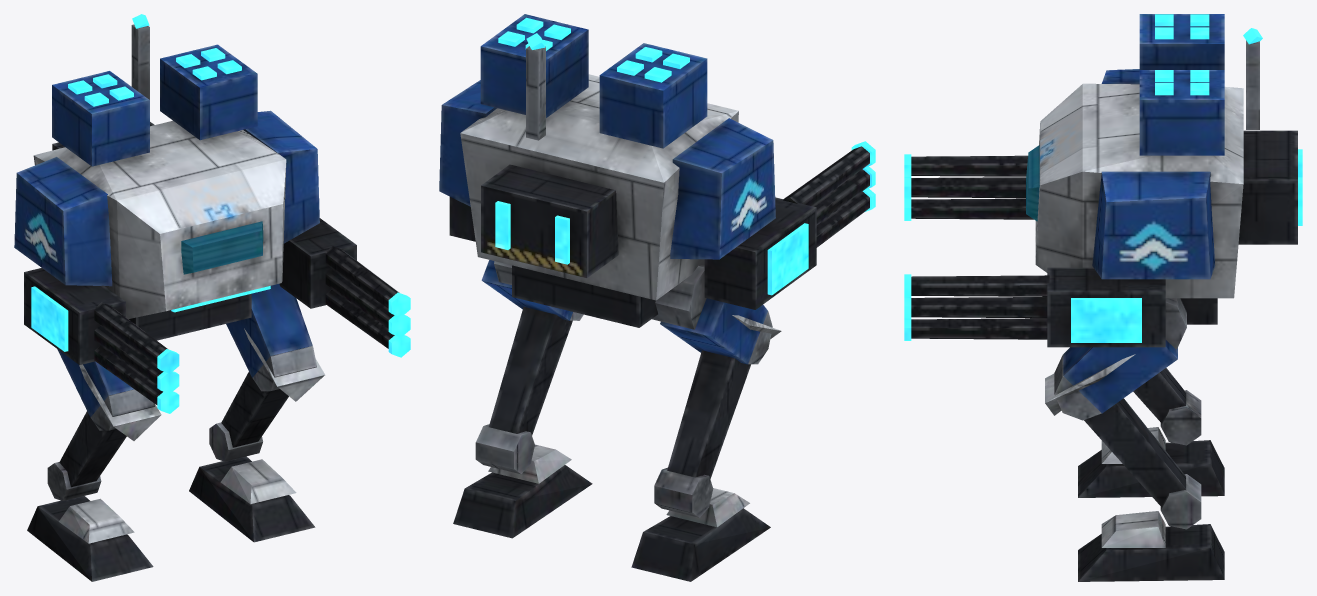
Rendered from u_titan2_w.glb.
3 views of the same model, side by side, from view 1: azimuth 30°, elevation 25°; view 2: azimuth 150°, elevation 25°; view 3: azimuth 270°, elevation 25° (orthographic). The views are drawn at different scales.
Parts seen in each view (by area): view 1: u_titan2_w; view 2: u_titan2_w; view 3: u_titan2_w.
Part boxes in pixels (bbox=[...]): u_titan2_w: bbox=[14, 14, 410, 581]; u_titan2_w: bbox=[439, 14, 875, 581]; u_titan2_w: bbox=[904, 14, 1302, 581].
Bounding box in the file's own units: 1.66 × 2.65 × 1.89.
1 material, 1 textured.
